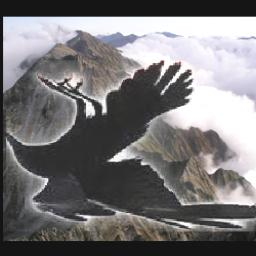Crow: (6, 61, 256, 232)
